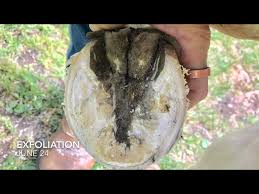horsesole: (62, 37, 187, 169)
